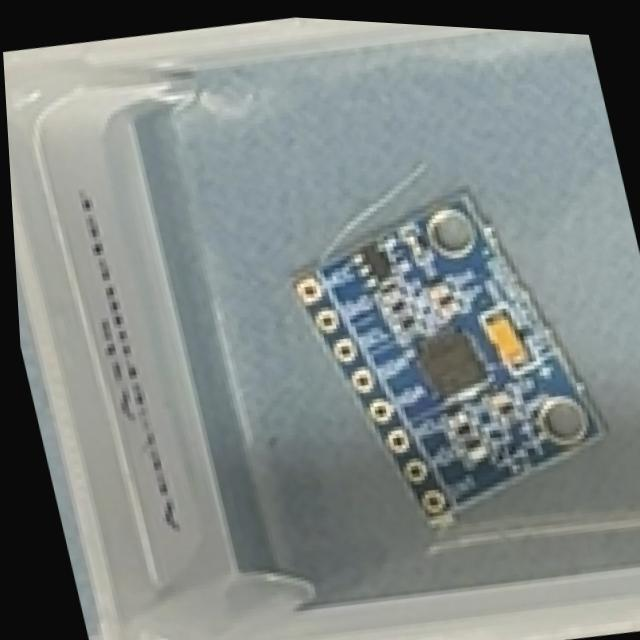Axis Accelerometer: (267, 164, 623, 551)
